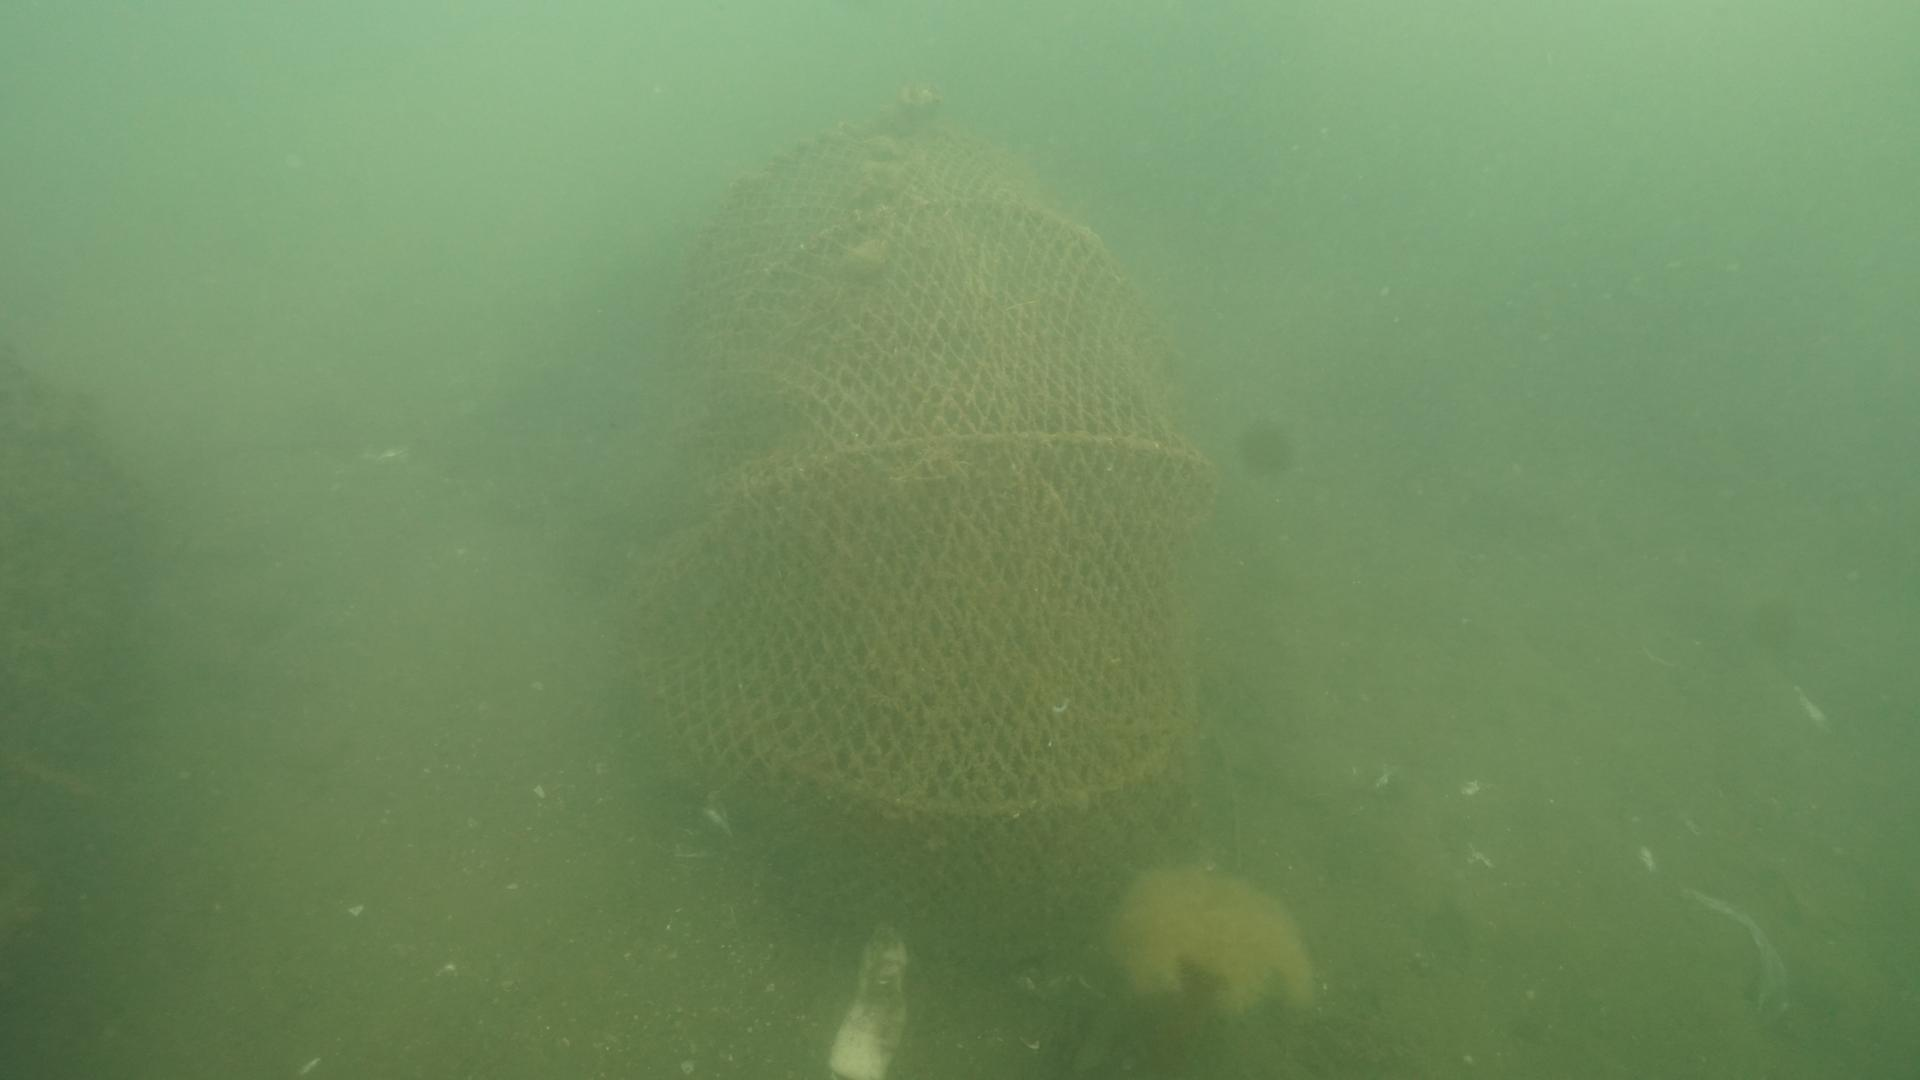spring fish trap: (636, 98, 1222, 963)
